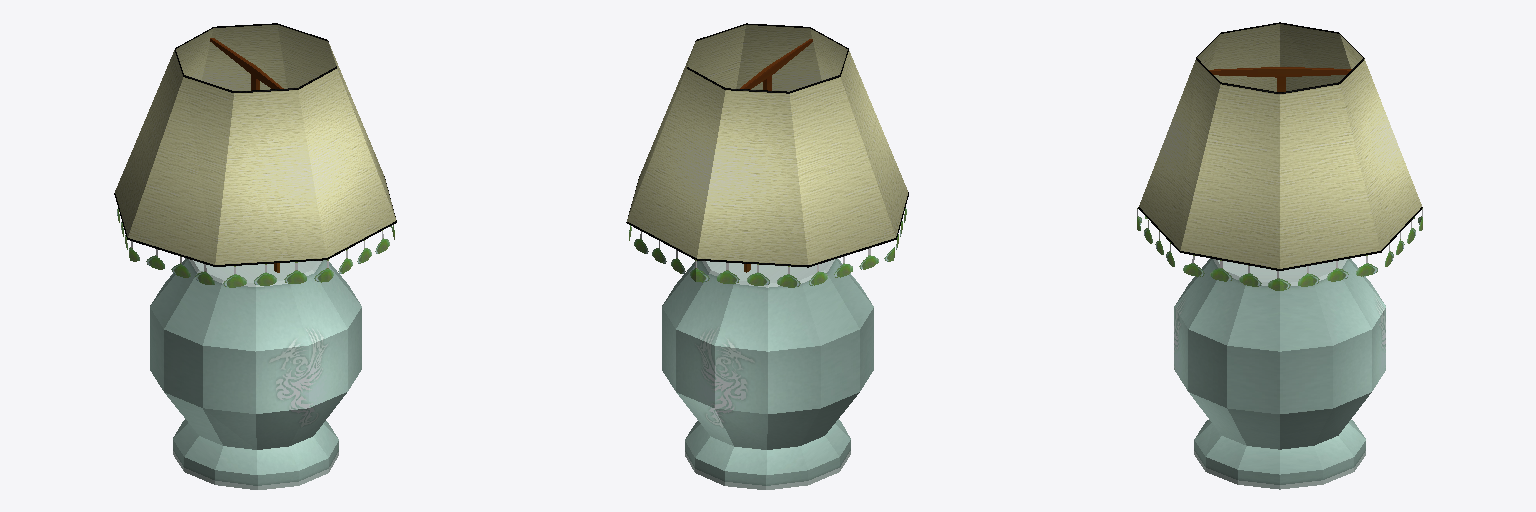
The picture shows the model from 3 angles: view 1: azimuth 30°, elevation 25°; view 2: azimuth 150°, elevation 25°; view 3: azimuth 270°, elevation 25°; orthographic projection.
Parts seen in each view (by area): view 1: br_lampshade1, br_lamp1, br_crystals, br_light2; view 2: br_lampshade1, br_lamp1, br_crystals, br_light2; view 3: br_lampshade1, br_lamp1, br_crystals, br_light2.
Boxes of the visible parts, x1,y1,x2,y2 form: br_lampshade1: [114, 23, 396, 266]; br_lamp1: [150, 258, 361, 489]; br_crystals: [117, 209, 394, 287]; br_light2: [210, 38, 283, 272]; br_lampshade1: [626, 23, 908, 267]; br_lamp1: [662, 258, 873, 489]; br_crystals: [629, 208, 906, 287]; br_light2: [740, 39, 812, 272]; br_lampshade1: [1138, 22, 1422, 270]; br_lamp1: [1174, 258, 1385, 489]; br_crystals: [1137, 208, 1422, 290]; br_light2: [1209, 67, 1351, 91].
Size of the model in its own units: 8.12 by 11.97 by 7.81.
Materials: 4 (4 with a texture image).